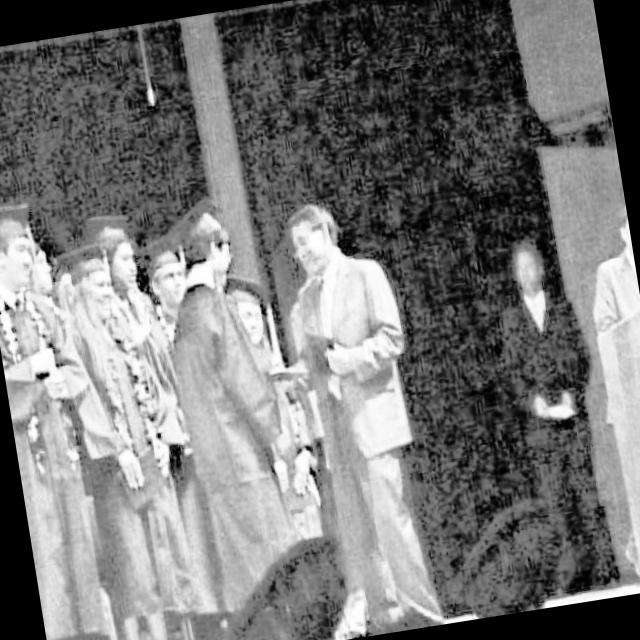Person: (280, 184, 456, 639), (43, 228, 220, 640), (153, 202, 320, 604), (0, 191, 125, 640), (482, 234, 633, 597)
